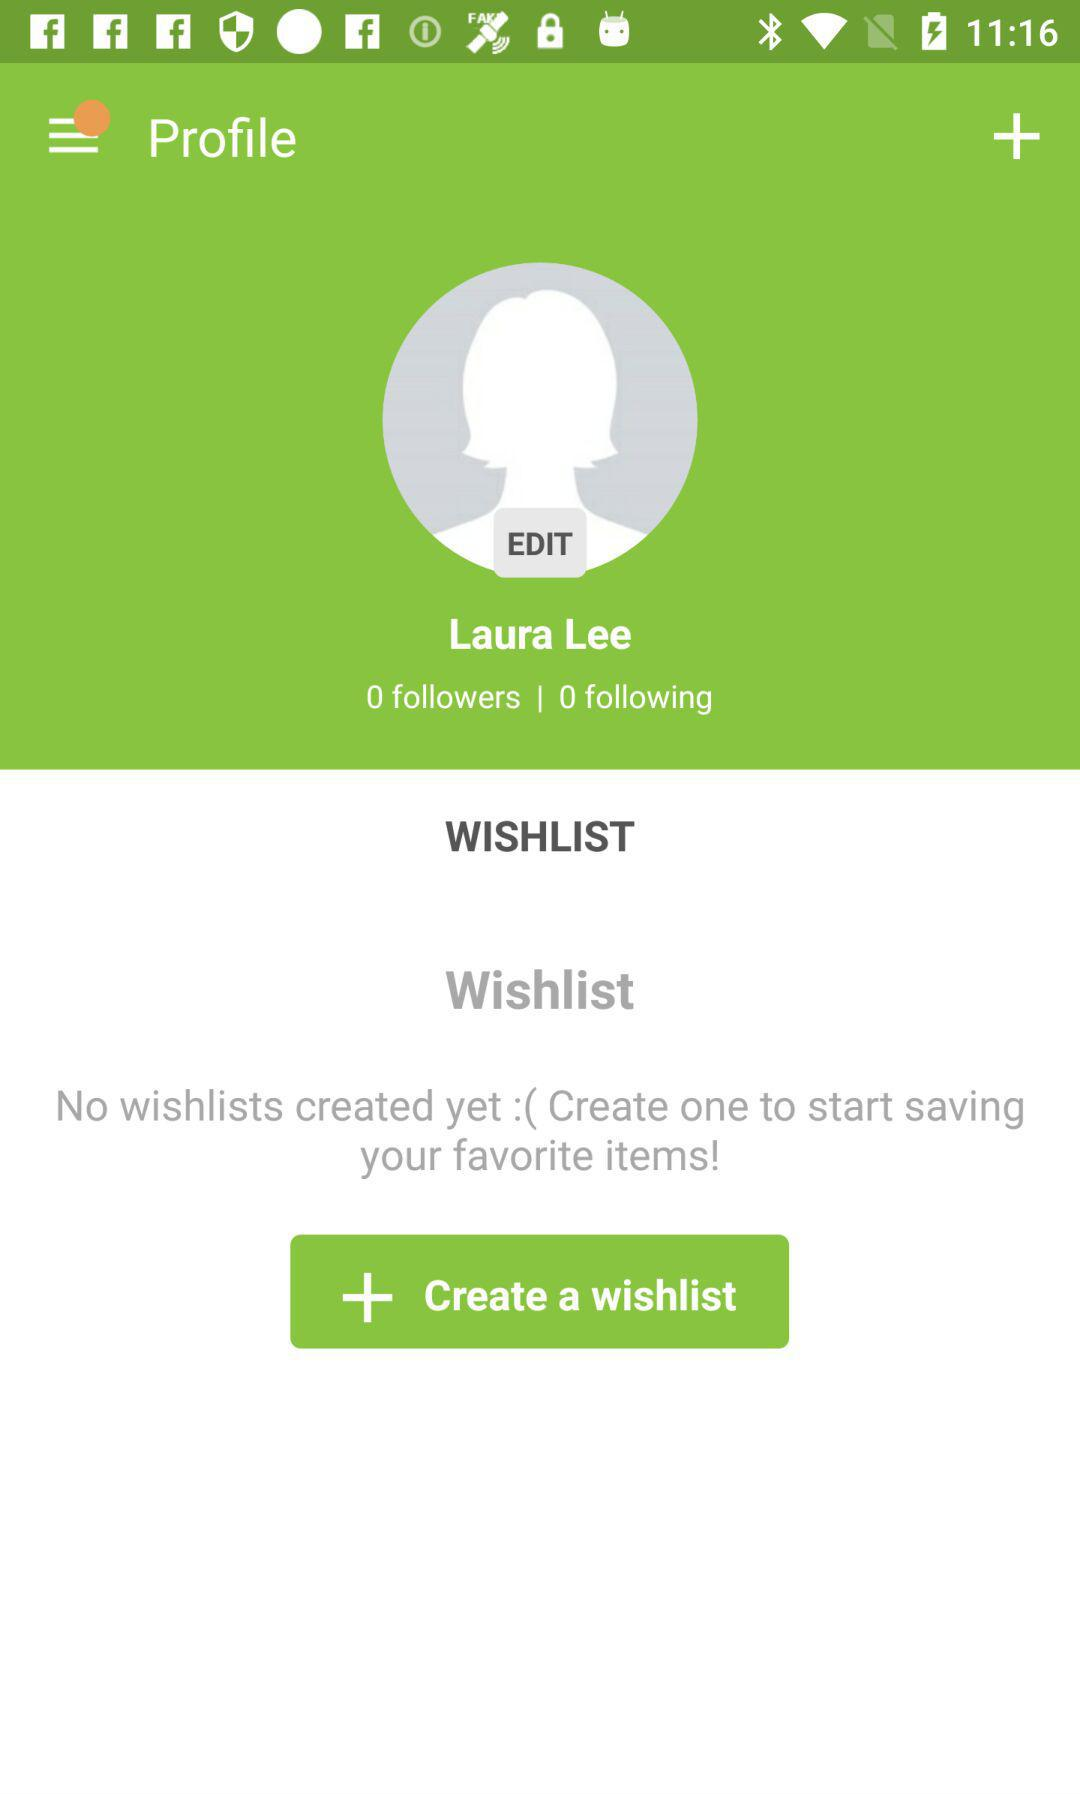Icon: (382, 261, 700, 579), (47, 99, 111, 156), (992, 113, 1042, 161)
Text: (58, 1087, 1024, 1181), (366, 683, 714, 718), (446, 969, 635, 1011), (150, 117, 297, 160), (445, 820, 635, 853), (450, 618, 632, 651)
TextButton: (290, 1234, 790, 1351)
UpperTaskBar: (1, 1, 1080, 64)
